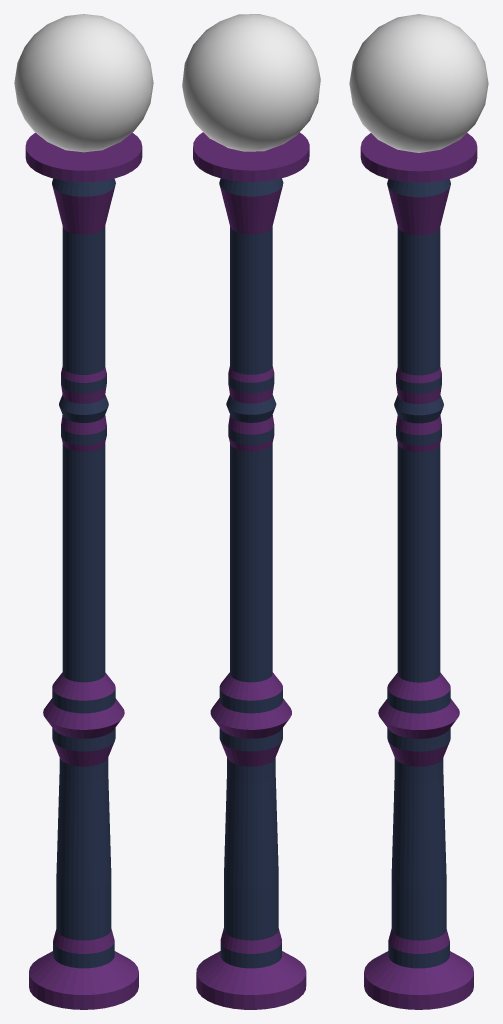
The model's file is LampPostModel07.fbx.
The picture shows the model from 3 angles, left to right: view 1: azimuth 90°, elevation 25°; view 2: azimuth 150°, elevation 25°; view 3: azimuth 270°, elevation 25°; orthographic projection.
Parts seen in each view (by area): view 1: LampPost07; view 2: LampPost07; view 3: LampPost07.
Boxes of the visible parts, x1,y1,x2,y2 form: LampPost07: [14, 14, 153, 1009]; LampPost07: [182, 14, 320, 1009]; LampPost07: [349, 14, 488, 1009].
Bounding box in the file's own units: 94.95 × 727 × 94.95.
